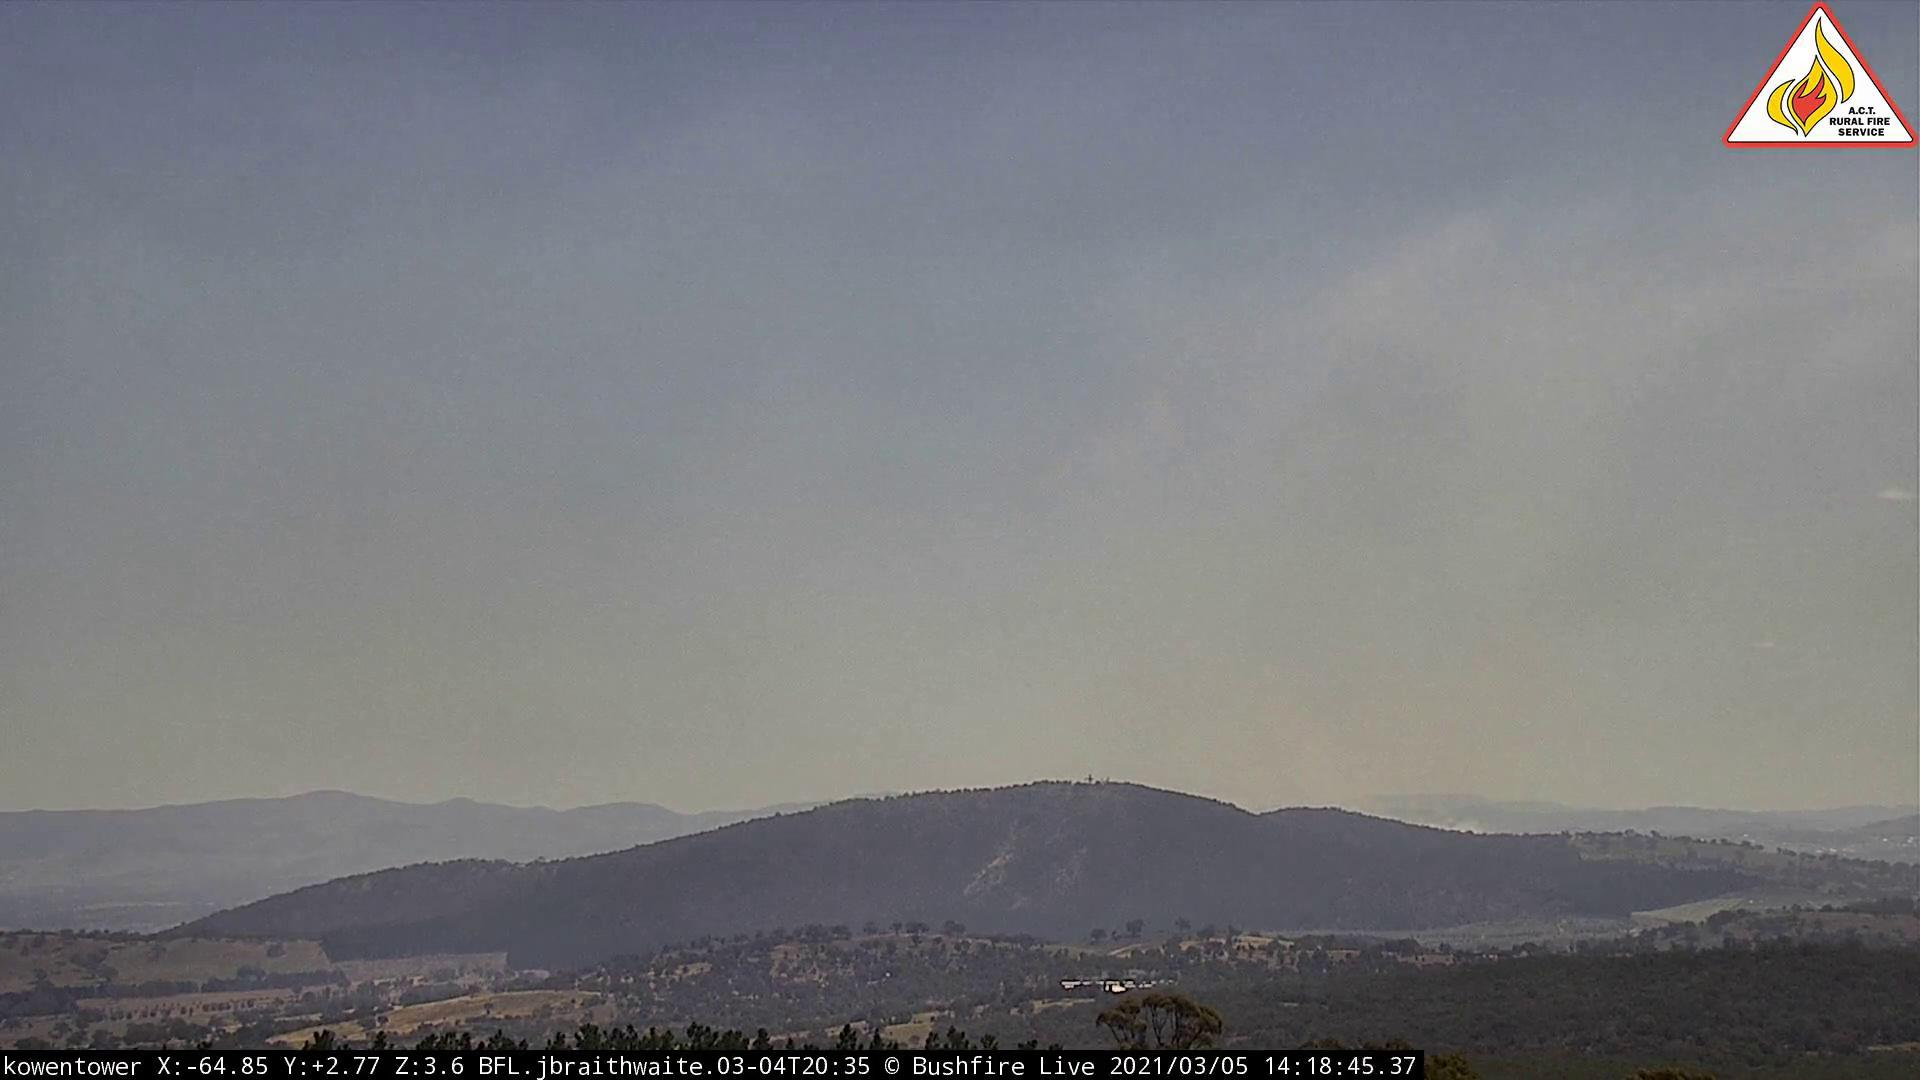instance_salient_object: (1241, 636, 1528, 843)
